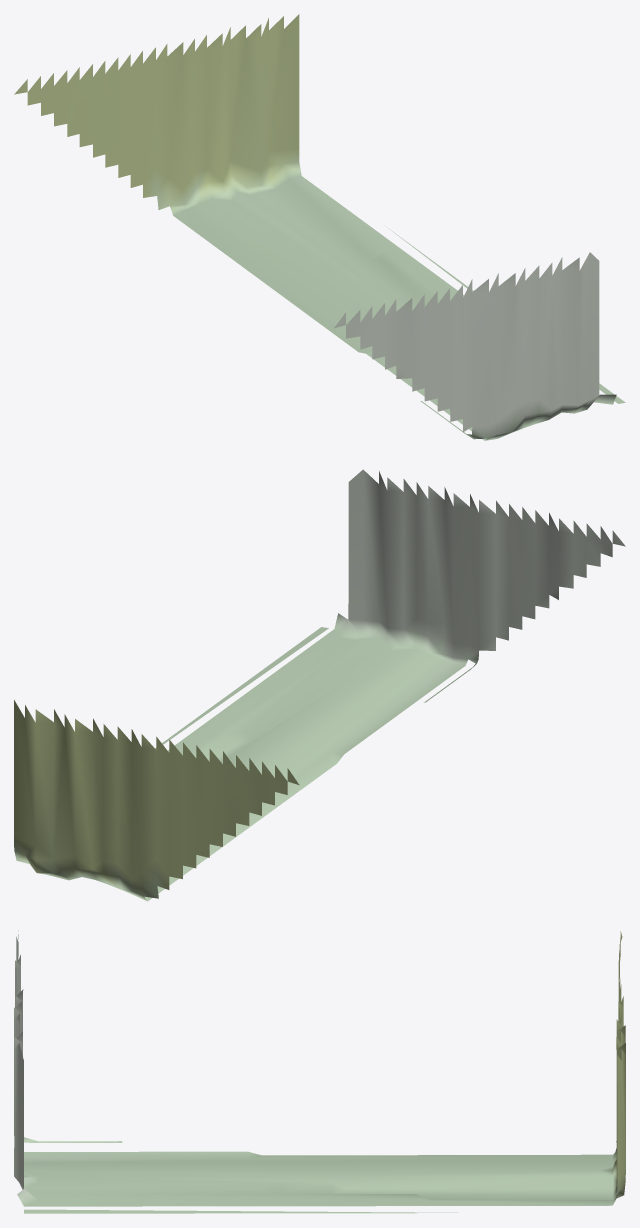
File: tile_7e4ccbd5fe0e_0_0_-2_0_lod2.glb
3 renders of one model, top to bottom at view 1: azimuth 30°, elevation 25°; view 2: azimuth 150°, elevation 25°; view 3: azimuth 270°, elevation 25°, orthographic. The views are drawn at different scales.
Bounding box in the file's own units: 1.84 × 1.01 × 3.49.
